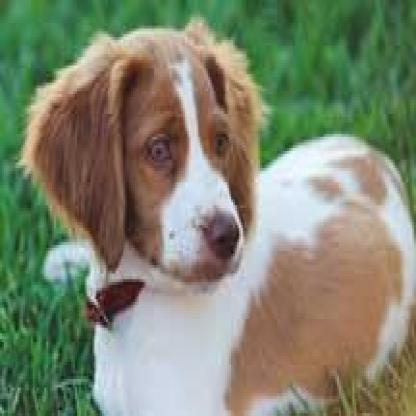Brittany_spaniel: (16, 3, 412, 410)
